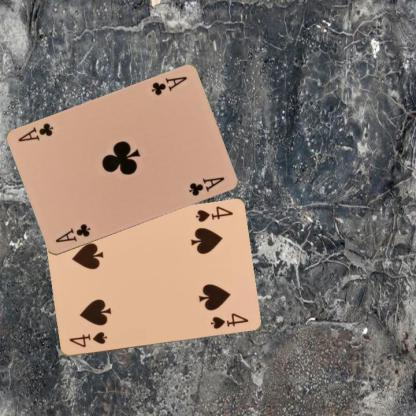4s: (66, 329, 108, 349), (193, 204, 234, 224)
Ac: (148, 74, 188, 97), (52, 222, 92, 244)
